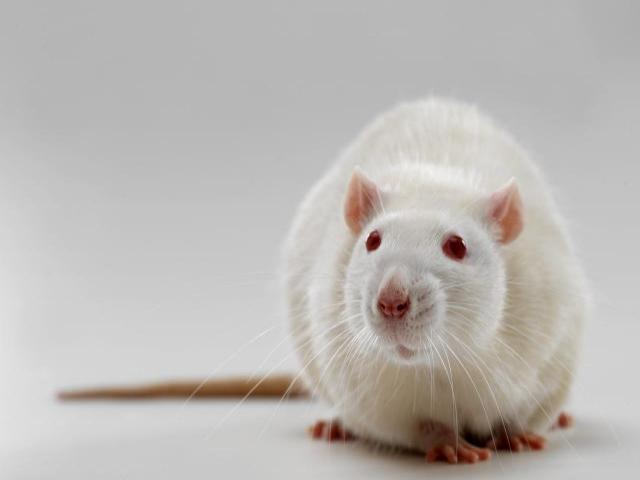Tikus: (274, 98, 588, 459)
